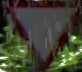Give way: (5, 0, 81, 71)
